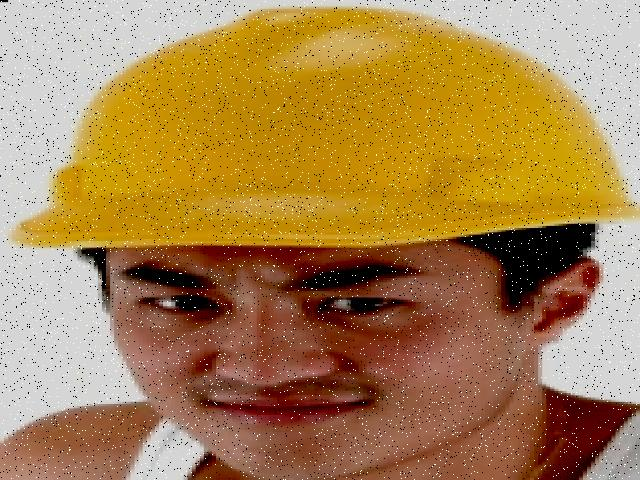Helmet: (0, 2, 636, 263)
